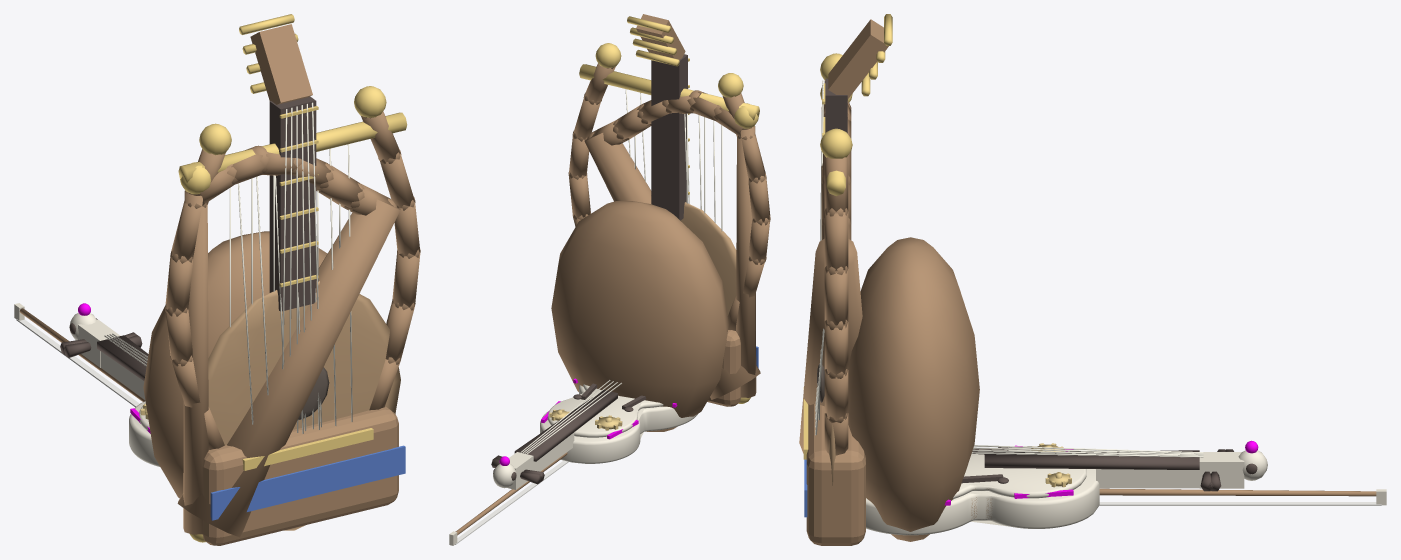
File: instruments.fbx
The picture shows the model from 3 angles, left to right: view 1: azimuth 30°, elevation 25°; view 2: azimuth 150°, elevation 25°; view 3: azimuth 270°, elevation 25°; orthographic projection. The views are drawn at different scales.
Visible parts, largest first — view 1: SoundBox__Wood.001, Board__Plank, SoundBox__Wood, Bowl__Wood, Neck__Ebony, Pillar__Wood, Band__Lapis, Pegbox__Wood, Yoke__Gold, Bridge__Gold, Arm__Wood.003, Arm__Wood.008 (+33 smaller); view 2: Bowl__Wood, Neck__Ebony, Pillar__Wood, SoundBox__Wood.001, Body__Bone, Board__Plank, Top__Bone, Fingerboard__Ebony, Yoke__Gold, SoundBox__Wood, Pegbox__Wood, Arm__Wood.003 (+17 smaller); view 3: Bowl__Wood, SoundBox__Wood, Body__Bone, SoundBox__Wood.001, Fingerboard__Ebony, Top__Bone, Pegbox__Wood, Neck__Bone, Stick__Wood, Arm__Wood.010, PegBox__Bone, Arm__Wood.009 (+7 smaller).
Part boxes in pixels (x1,y1,x2,y2): SoundBox__Wood.001: (177,199,400,537); Board__Plank: (208,281,400,530); SoundBox__Wood: (202,407,398,545); Bowl__Wood: (143,231,327,498); Neck__Ebony: (269,96,316,311); Pillar__Wood: (183,190,208,534); Band__Lapis: (210,445,405,520); Pegbox__Wood: (250,24,312,104); Yoke__Gold: (178,112,407,183); Bridge__Gold: (242,428,373,470); Arm__Wood.003: (165,257,192,312); Arm__Wood.008: (392,252,420,307); Bowl__Wood: (551,201,728,431); Neck__Ebony: (651,54,687,220); Pillar__Wood: (736,125,756,397); SoundBox__Wood.001: (584,133,760,399); Body__Bone: (540,385,698,463); Board__Plank: (651,195,736,314); Top__Bone: (547,384,663,437); Fingerboard__Ebony: (514,390,617,461); Yoke__Gold: (579,64,759,120); SoundBox__Wood: (707,330,740,406); Pegbox__Wood: (636,14,685,59); Arm__Wood.003: (748,178,770,221); Bowl__Wood: (848,237,979,541); SoundBox__Wood: (806,404,865,545); Body__Bone: (866,469,1099,535); SoundBox__Wood.001: (799,238,862,453); Fingerboard__Ebony: (984,450,1199,469); Top__Bone: (953,446,1086,498); Pegbox__Wood: (828,19,888,99); Neck__Bone: (1096,469,1199,488); Stick__Wood: (1099,488,1376,496); Arm__Wood.010: (824,212,848,270); PegBox__Bone: (1199,452,1244,488); Arm__Wood.009: (824,269,848,325).
Bounding box in the file's own units: 0.392 × 0.7527 × 0.792.
